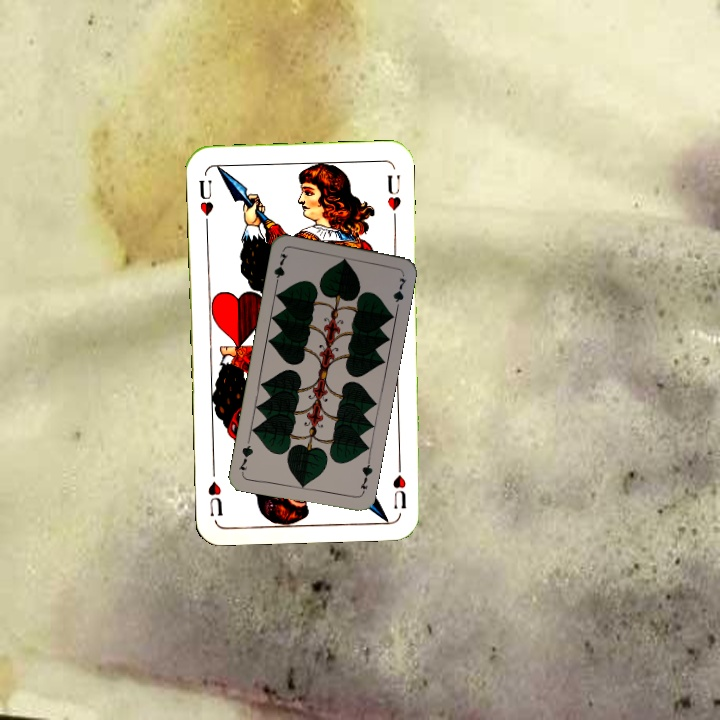G7: (270, 249, 290, 289), (356, 457, 375, 497)
HU: (388, 455, 409, 512), (195, 175, 216, 229)
